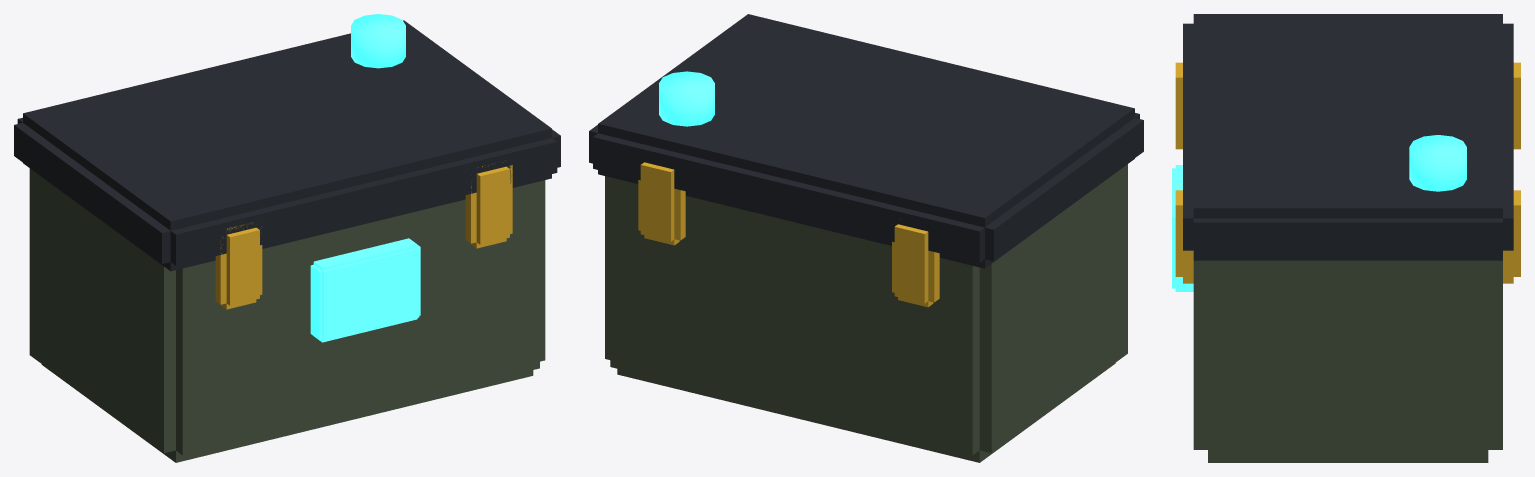
File: supply_crate.glb
3 renders of one model, left to right at view 1: azimuth 30°, elevation 25°; view 2: azimuth 150°, elevation 25°; view 3: azimuth 270°, elevation 25°, orthographic. The views are drawn at different scales.
Visible parts, largest first — view 1: CrateBody, CrateLid, LockPad, CrateLatch_0.42, CrateLatch_-0.42, TopBeacon; view 2: CrateBody, CrateLid, CrateLatch_-0.42, CrateLatch_0.42, TopBeacon; view 3: CrateLid, CrateBody, TopBeacon, CrateLatch_0.42, CrateLatch_-0.42, LockPad.
Boxes of the visible parts, x1=… form: CrateBody: x1=29, y1=168, x2=545, y2=462; CrateLid: x1=14, y1=20, x2=560, y2=271; LockPad: x1=310, y1=238, x2=420, y2=342; CrateLatch_0.42: x1=465, y1=162, x2=512, y2=248; CrateLatch_-0.42: x1=215, y1=222, x2=262, y2=309; TopBeacon: x1=351, y1=14, x2=405, y2=68; CrateBody: x1=605, y1=164, x2=1127, y2=462; CrateLid: x1=589, y1=14, x2=1143, y2=268; CrateLatch_-0.42: x1=892, y1=219, x2=939, y2=307; CrateLatch_0.42: x1=638, y1=162, x2=685, y2=245; TopBeacon: x1=659, y1=71, x2=714, y2=126; CrateLid: x1=1183, y1=14, x2=1513, y2=260; CrateBody: x1=1193, y1=260, x2=1502, y2=462; TopBeacon: x1=1409, y1=135, x2=1466, y2=191; CrateLatch_0.42: x1=1175, y1=190, x2=1520, y2=283; CrateLatch_-0.42: x1=1175, y1=62, x2=1520, y2=149; LockPad: x1=1172, y1=165, x2=1193, y2=291.
Size of the model in its own units: 1.34 by 0.9 by 0.97.
